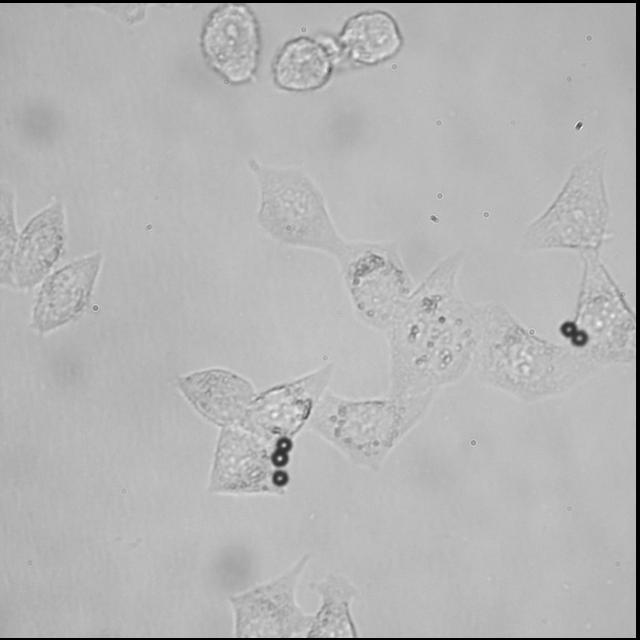microbeads: (270, 447, 290, 467), (270, 469, 292, 487), (274, 432, 292, 451), (559, 318, 575, 338), (576, 330, 588, 346)
